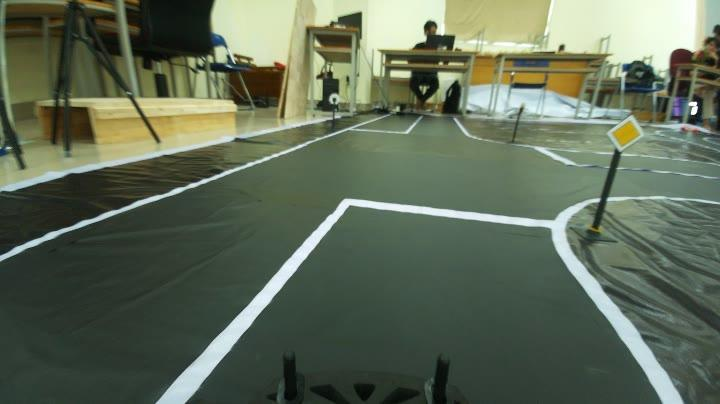priority: (603, 110, 647, 156)
